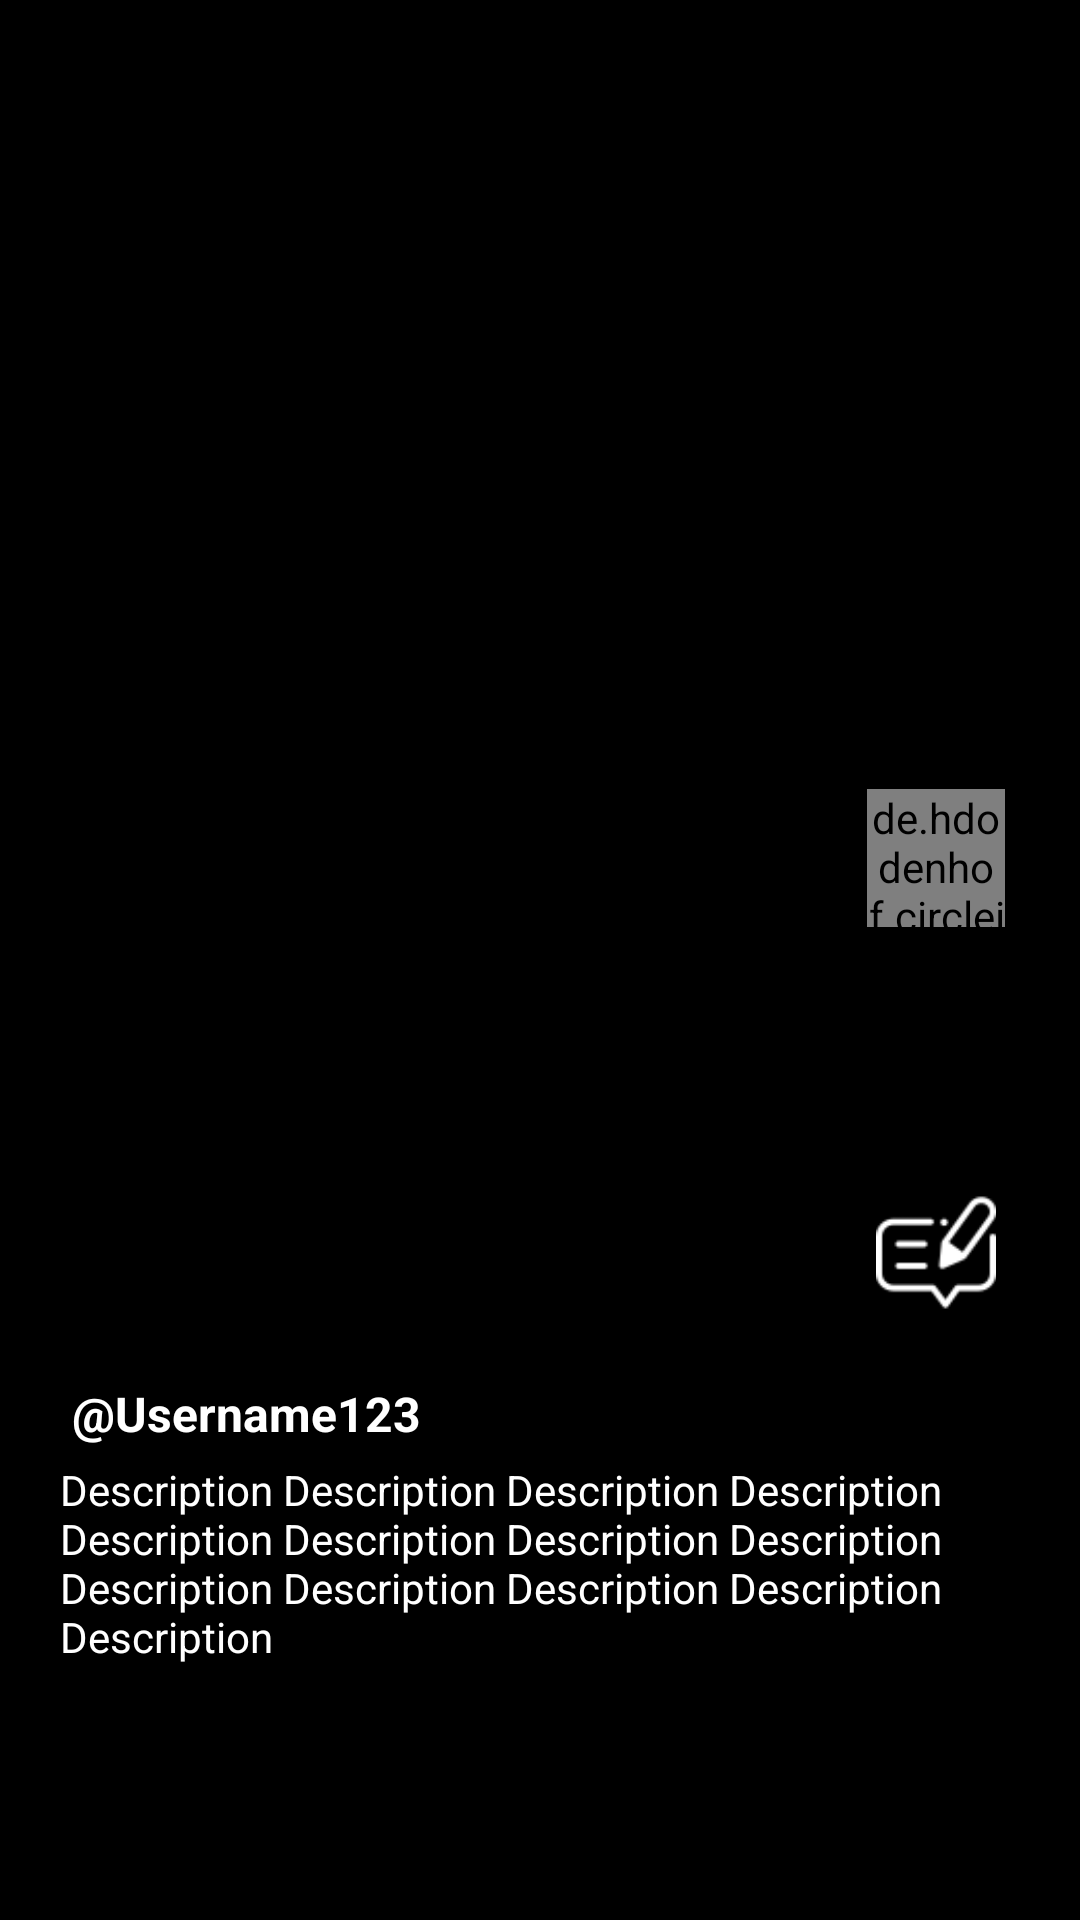

Named icons in this screenshot (1080×1920) and their bounding boxes, rect(x1, y1, x2, y2):
comment: rect(876, 1196, 996, 1309)
